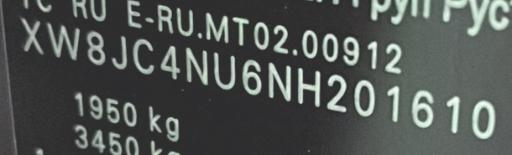letter: (45, 20, 81, 61), (468, 94, 498, 140), (409, 88, 437, 129), (182, 45, 210, 86), (295, 64, 321, 107), (323, 72, 349, 115), (266, 59, 292, 102), (352, 78, 378, 119), (18, 15, 44, 54), (212, 49, 236, 90), (130, 37, 156, 74), (157, 44, 183, 79), (240, 55, 262, 96), (85, 29, 107, 66), (444, 91, 460, 133), (110, 34, 128, 70), (386, 80, 400, 124)
